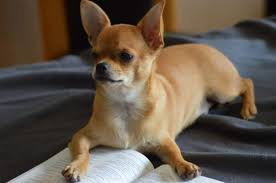chihuahua: (64, 1, 259, 181)
